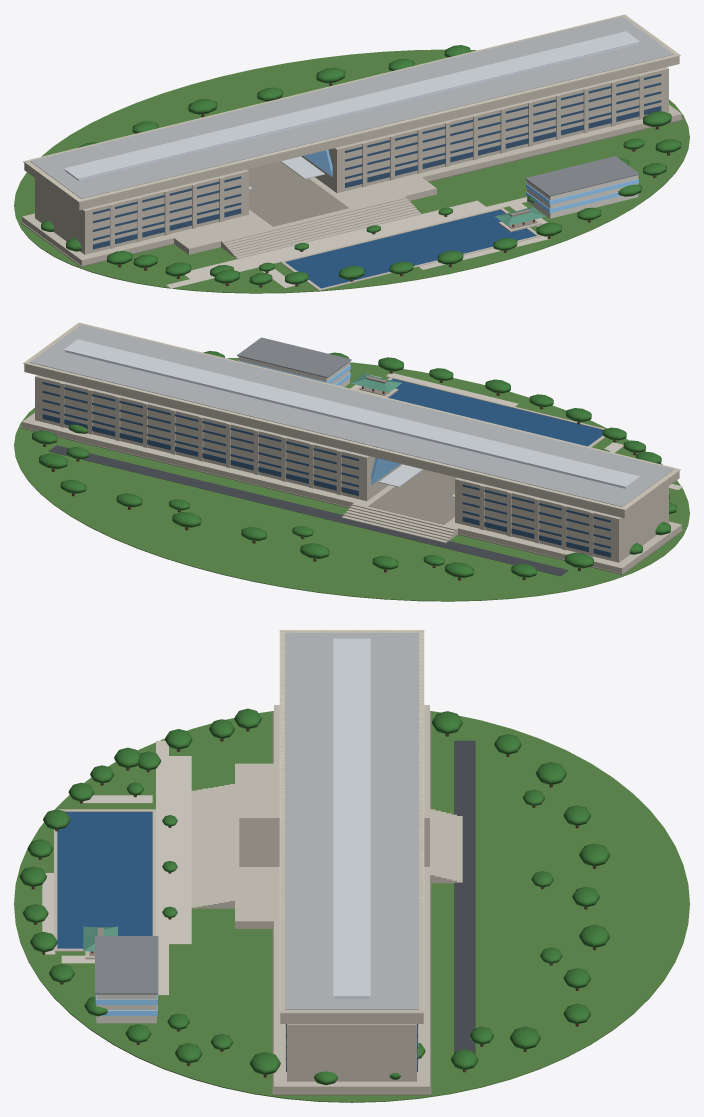
The model's file is national-museum-korea.glb.
3 renders of one model, top to bottom at view 1: azimuth 30°, elevation 25°; view 2: azimuth 150°, elevation 25°; view 3: azimuth 270°, elevation 25°, orthographic. The views are drawn at different scales.
Size of the model in its own units: 433 by 44.3 by 312.
